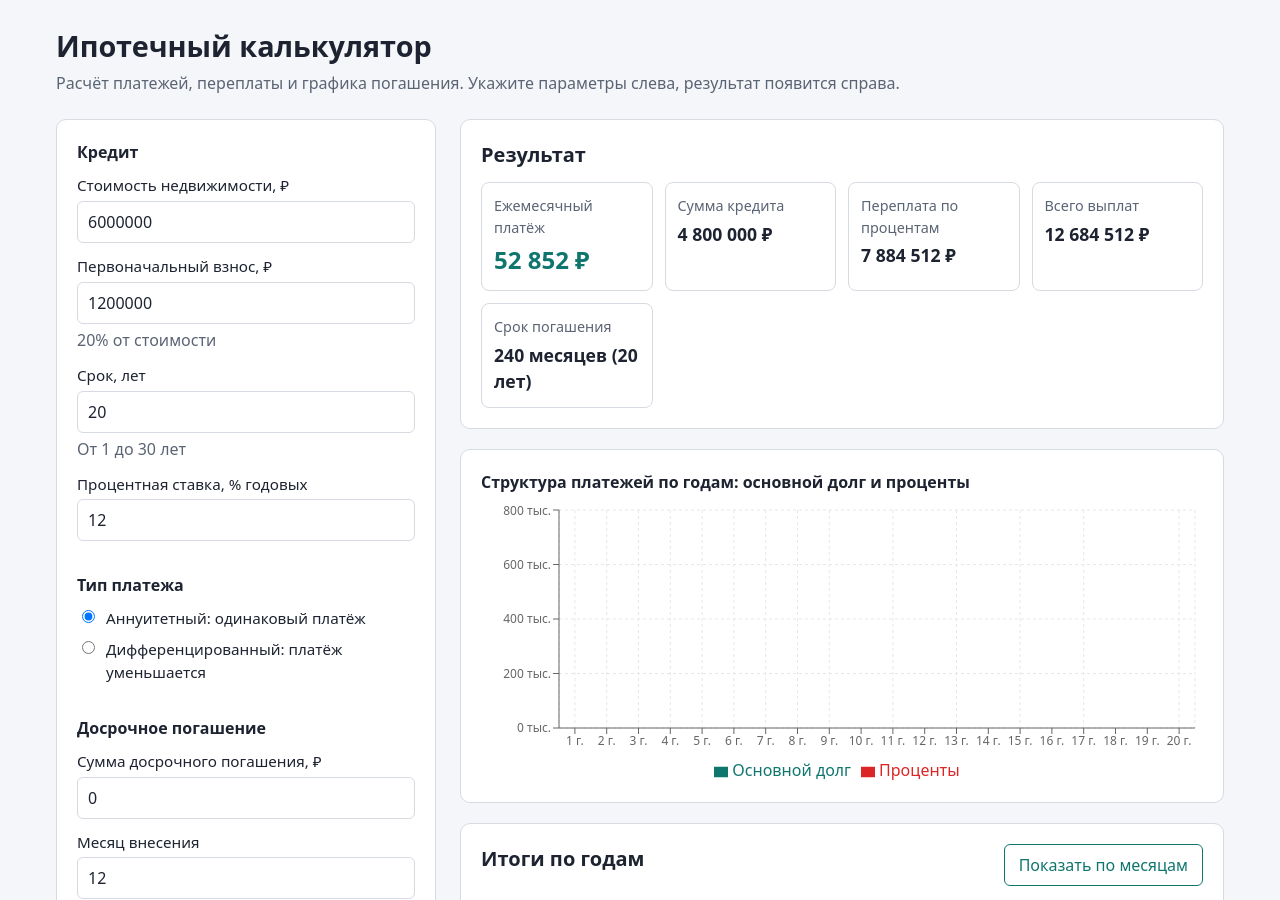
Test: Ипотечный калькулятор › переключает таблицу между годами и месяцами
What coordinates should you click on to do the following:
click the button "Показать по месяцам"
I would click on:
 (1103, 865)
Its box is [1004,844,1203,886].
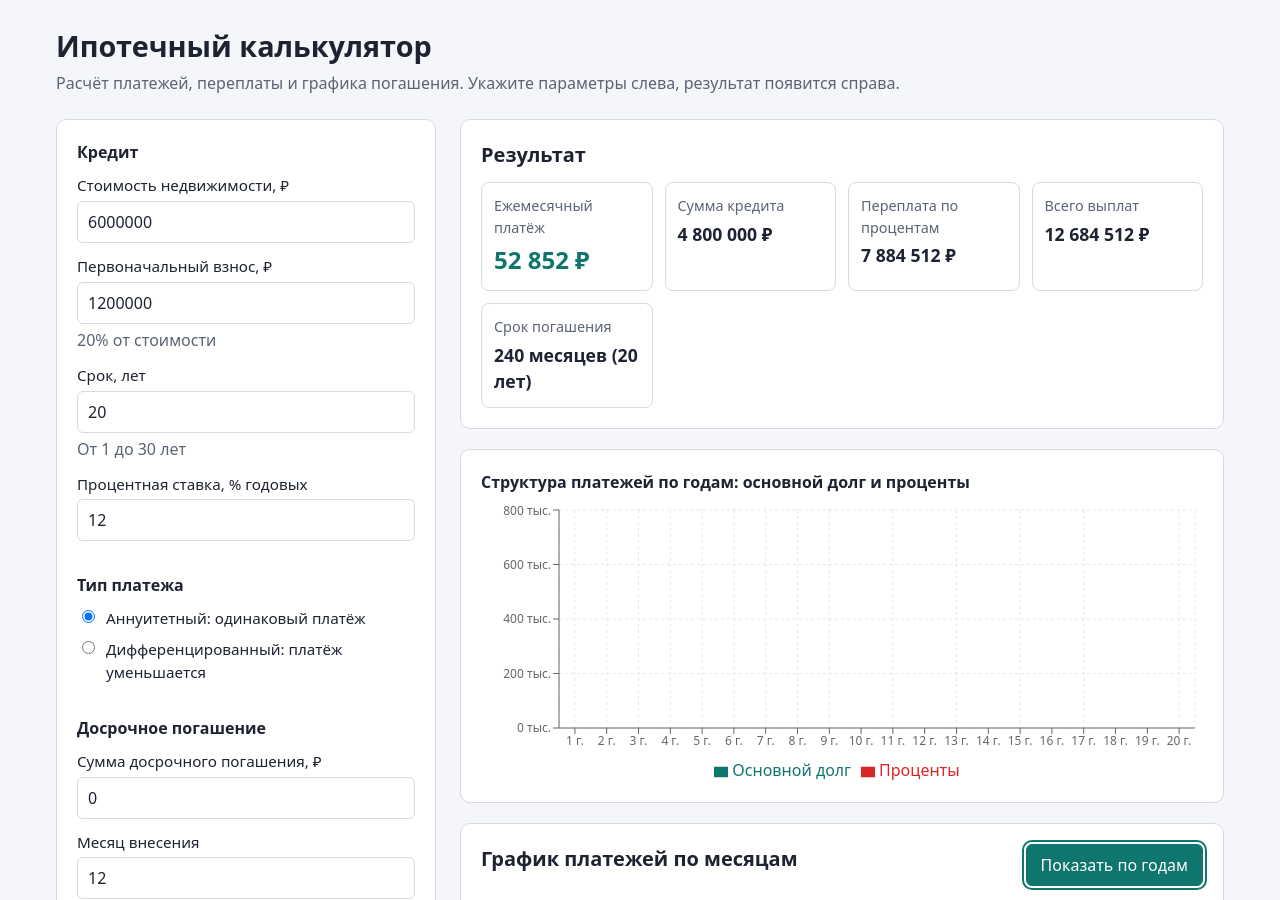
Result: the heading "График платежей по месяцам" is shown at [481,844,798,874]
What coordinates should you click on to do the following:
click the button "Показать по годам"
I would click on:
 (1114, 865)
Its box is [1026,844,1203,886].
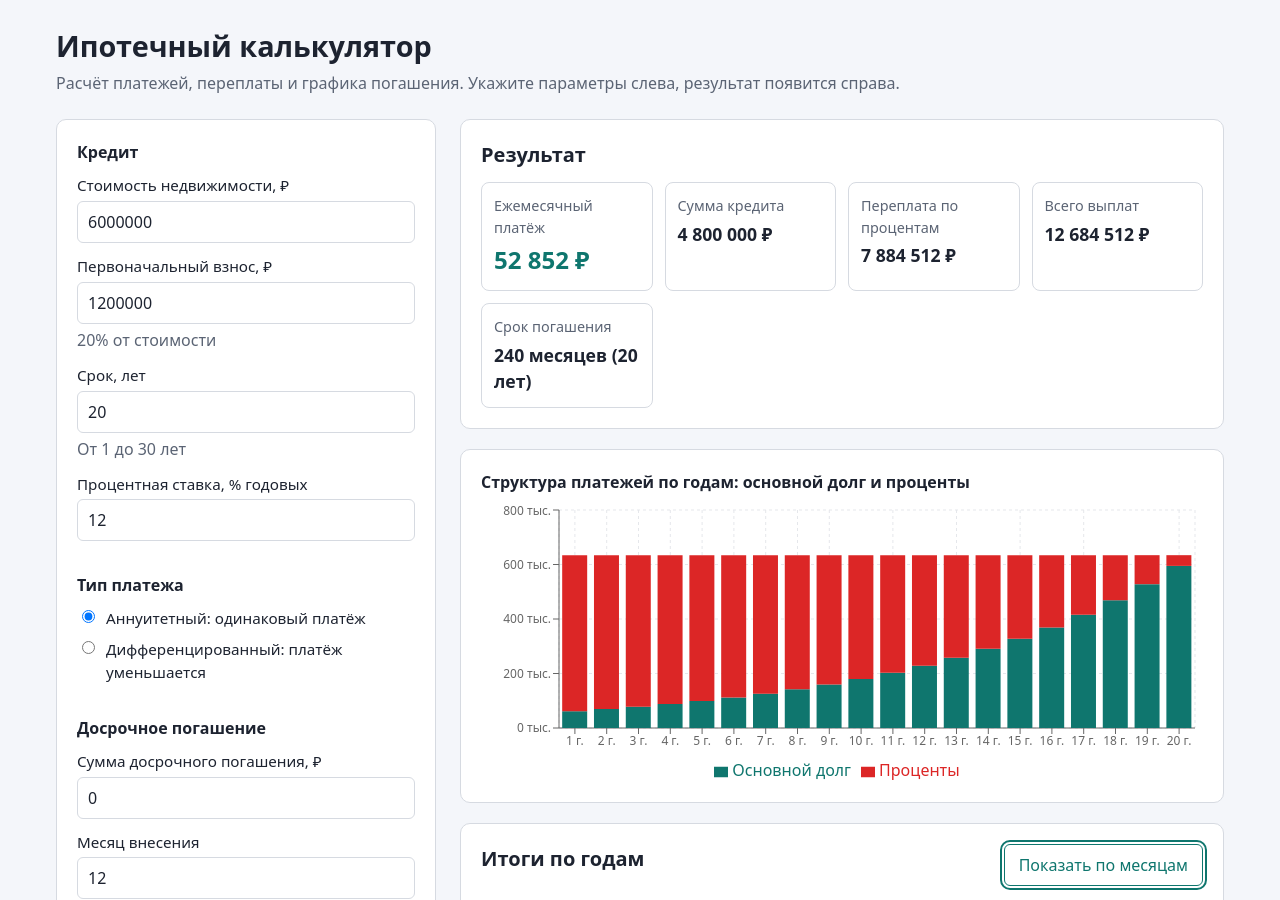
Result: the heading "Итоги по годам" is shown at [481,844,644,874]
